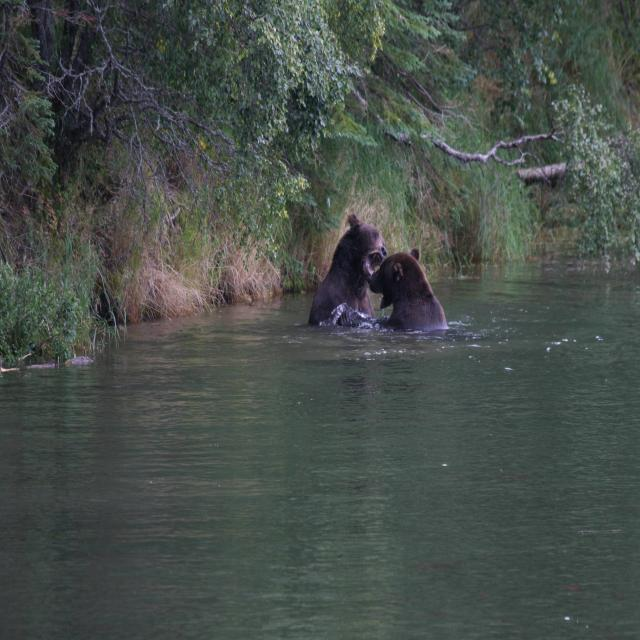bear face: (312, 212, 387, 330), (369, 246, 446, 331)
